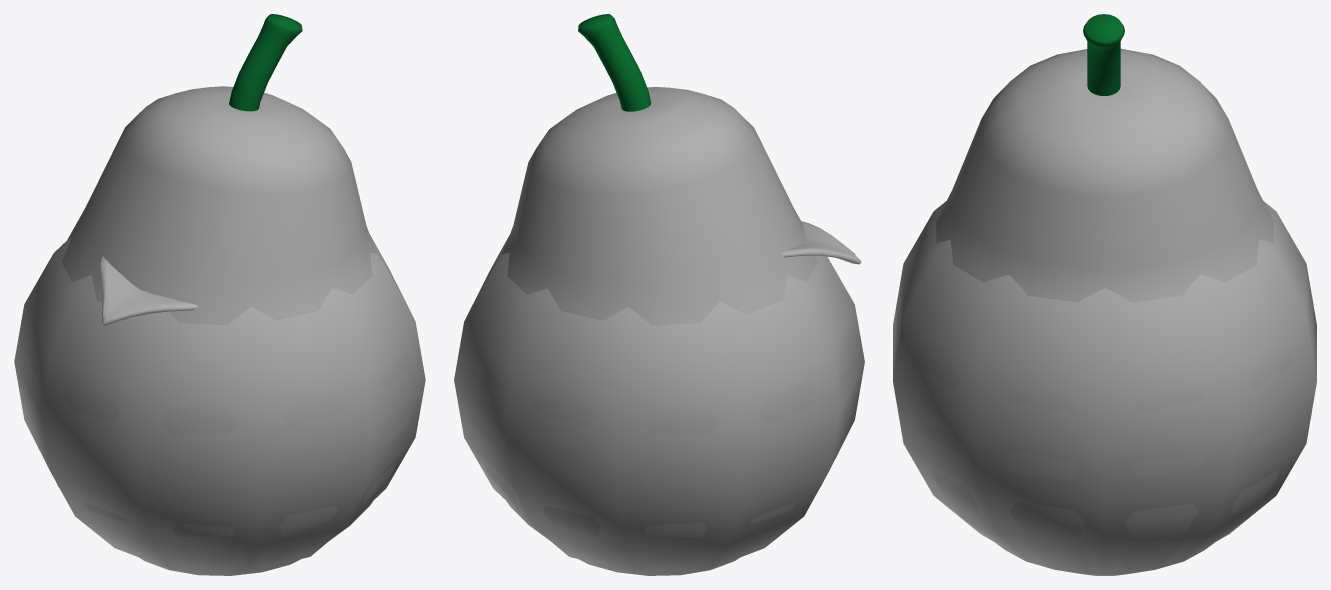
File: fruit.fbx
The picture shows the model from 3 angles, left to right: view 1: azimuth 30°, elevation 25°; view 2: azimuth 150°, elevation 25°; view 3: azimuth 270°, elevation 25°; orthographic projection. The views are drawn at different scales.
Visible parts, largest first — view 1: Manderijn, Peer1, Stock; view 2: Manderijn, Peer1, Stock; view 3: Manderijn, Peer1.
Part boxes in pixels (<box>): Manderijn: <box>14,234,425,573</box>; Peer1: <box>23,14,410,575</box>; Stock: <box>33,256,396,453</box>; Manderijn: <box>454,235,864,573</box>; Peer1: <box>470,14,855,575</box>; Stock: <box>482,221,861,454</box>; Manderijn: <box>893,201,1316,572</box>; Peer1: <box>897,14,1312,575</box>.
Size of the model in its own units: 40.59 by 57.17 by 38.61.
